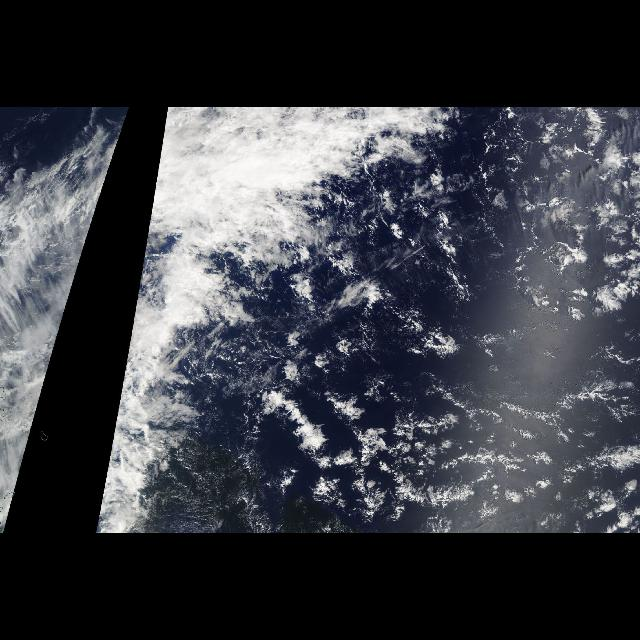Fish: (418, 358, 636, 530)
Gravel: (268, 126, 640, 534)
